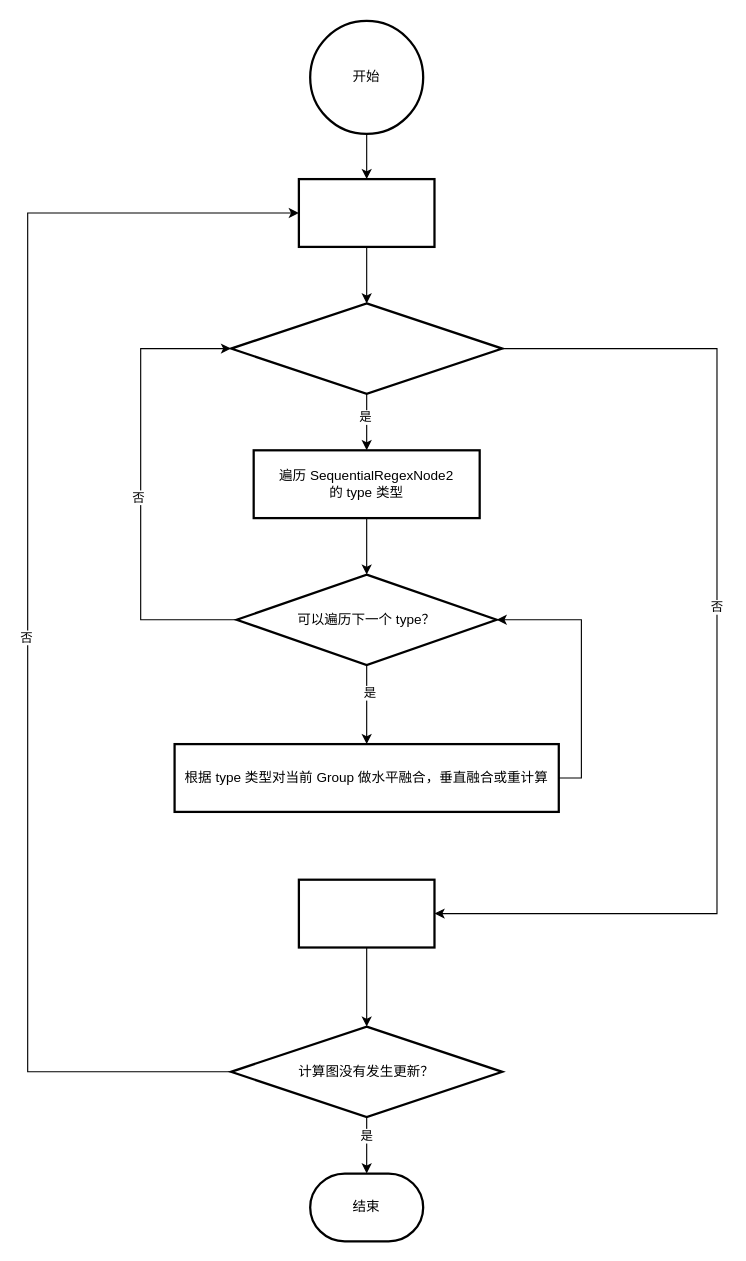
This 746x1261 diagram has some shape labels left out. Each missing label, with the centre of its shape:
"可以遍历下一个 Group？" belongs at point 366,348.
"对当前计算图做输入融合" belongs at point 366,913.
"遍历计算图中的所有 Group" belongs at point 366,212.
